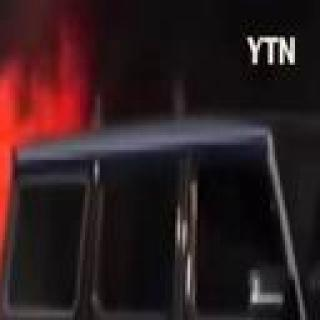fire: (0, 83, 18, 320)
